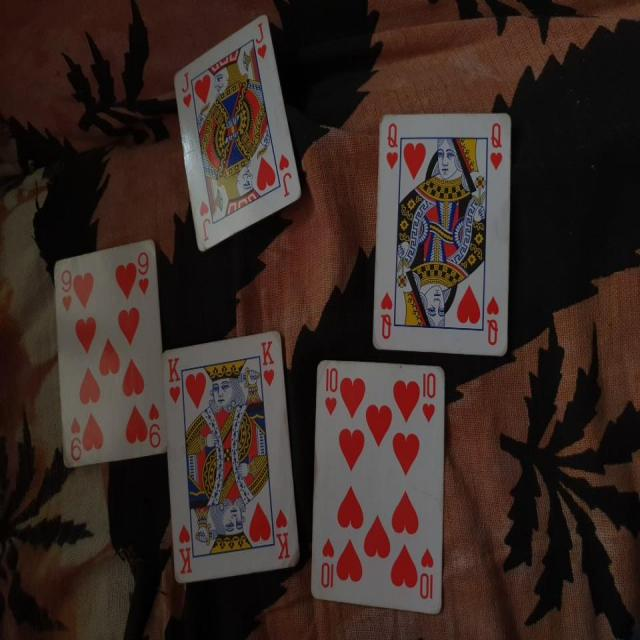10 Hearts: (314, 354, 451, 613)
9 Hearts: (50, 234, 176, 468)
J Hearts: (170, 15, 304, 262)
K Hearts: (162, 327, 301, 594)
Q Hearts: (364, 105, 521, 364)
